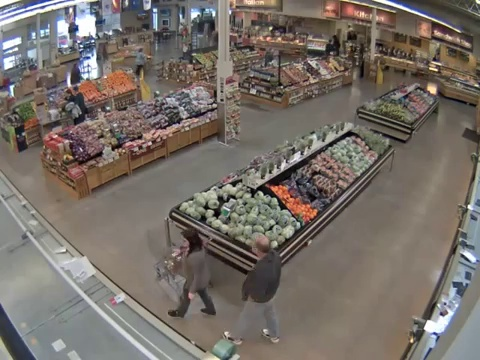face: (180, 235, 191, 249)
